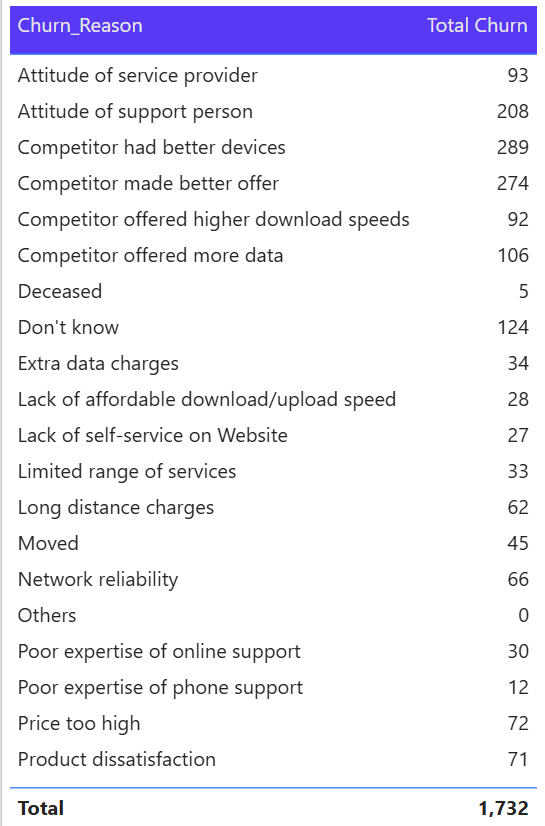

The page's visual inventory and layout, read from the dashboard file:
{"tool":"powerbi","page":{"name":"Churn Reason","canvas":[320,240],"ordinal":1},"visuals":[{"type":"tableEx","fields":{"Values":["prod_Churn.Churn_Reason","Measures (2).Total Churn"]},"box":[0,0,320,240],"z":0}]}

Visuals, with their boxes on the page's 320x240 design canvas (x1, y1, x2, y2). These are canvas units, not pixel positions in the 545x826 screenshot, which may show the page scaled, cropped or inside an application window:
tableEx - prod_Churn.Churn_Reason x Measures (2).Total Churn: Rect(0, 0, 320, 240)
